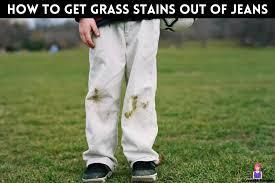earth: (92, 89, 101, 103), (131, 96, 138, 110), (124, 112, 133, 119), (142, 101, 149, 109)
